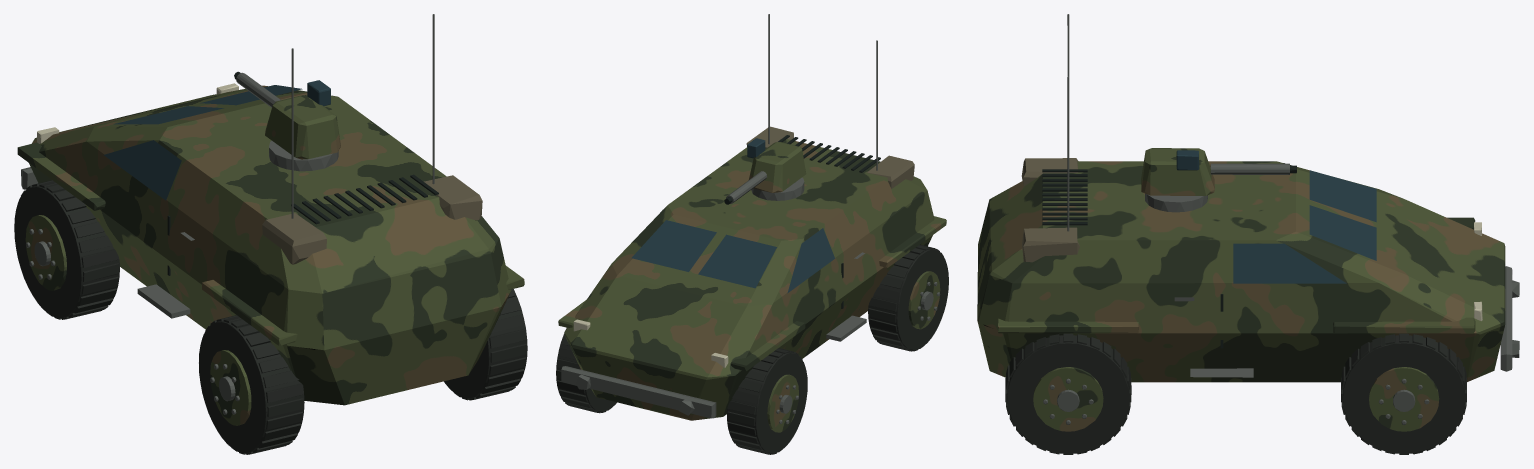
Rendered from recon-lod2.glb.
3 renders of one model, left to right at view 1: azimuth 30°, elevation 25°; view 2: azimuth 150°, elevation 25°; view 3: azimuth 270°, elevation 25°, orthographic. The views are drawn at different scales.
Parts seen in each view (by area): view 1: Chassis Recon camouflage, Wheel.L.-1.5 Recon rubber, Wheel.L.1.45 Recon rubber, Wheel.R.-1.5 Recon rubber, Chassis Recon optical glass, Chassis Recon stowage, Turret Recon camouflage, Chassis Recon hardware, Wheel.L.-1.5 Recon camouflage, Wheel.L.1.45 Recon camouflage, Chassis Recon recesses, Turret Recon hardware (+3 smaller); view 2: Chassis Recon camouflage, Chassis Recon optical glass, Wheel.L.1.45 Recon rubber, Wheel.L.-1.5 Recon rubber, Chassis Recon hardware, Turret Recon camouflage, Wheel.R.1.45 Recon rubber, Chassis Recon stowage, Wheel.L.1.45 Recon camouflage, Wheel.L.-1.5 Recon camouflage, Chassis Recon recesses, Turret Recon hardware (+1 smaller); view 3: Chassis Recon camouflage, Wheel.R.-1.5 Recon rubber, Wheel.R.1.45 Recon rubber, Chassis Recon optical glass, Wheel.R.-1.5 Recon camouflage, Wheel.R.1.45 Recon camouflage, Turret Recon camouflage, Chassis Recon hardware, Chassis Recon stowage, Chassis Recon recesses, Gun Recon hardware, Turret Recon hardware (+2 smaller).
Boxes of the visible parts, x1,y1,x2,y2 form: Chassis Recon camouflage: (17,85,524,405); Wheel.L.-1.5 Recon rubber: (199,315,304,454); Wheel.L.1.45 Recon rubber: (14,180,119,319); Wheel.R.-1.5 Recon rubber: (444,289,527,400); Chassis Recon optical glass: (104,85,302,200); Chassis Recon stowage: (262,175,482,264); Turret Recon camouflage: (265,95,340,159); Chassis Recon hardware: (21,14,434,318); Wheel.L.-1.5 Recon camouflage: (210,350,251,425); Wheel.L.1.45 Recon camouflage: (25,215,66,290); Chassis Recon recesses: (167,174,438,275); Turret Recon hardware: (269,140,338,171); Chassis Recon camouflage: (558,139,946,420); Chassis Recon optical glass: (631,212,834,293); Wheel.L.1.45 Recon rubber: (727,348,807,454); Wheel.L.-1.5 Recon rubber: (868,244,948,351); Chassis Recon hardware: (561,14,877,418); Turret Recon camouflage: (749,142,806,192); Wheel.R.1.45 Recon rubber: (556,328,616,413); Chassis Recon stowage: (746,126,914,188); Wheel.L.1.45 Recon camouflage: (767,374,798,432); Wheel.L.-1.5 Recon camouflage: (908,271,940,329); Chassis Recon recesses: (778,135,880,308); Turret Recon hardware: (751,177,804,200); Chassis Recon camouflage: (977,161,1505,382); Wheel.R.-1.5 Recon rubber: (1005,333,1131,454); Wheel.R.1.45 Recon rubber: (1341,333,1466,454); Chassis Recon optical glass: (1233,163,1376,283); Wheel.R.-1.5 Recon camouflage: (1033,367,1103,431); Wheel.R.1.45 Recon camouflage: (1369,367,1439,431); Turret Recon camouflage: (1141,148,1214,195); Chassis Recon hardware: (1067,14,1519,377); Chassis Recon stowage: (1021,158,1079,262); Chassis Recon recesses: (1042,169,1223,348); Gun Recon hardware: (1210,163,1289,174); Turret Recon hardware: (1145,193,1207,212).
Bounding box in the file's own units: 2.58 × 3.41 × 4.77.
Materials: 7 (1 with a texture image).
